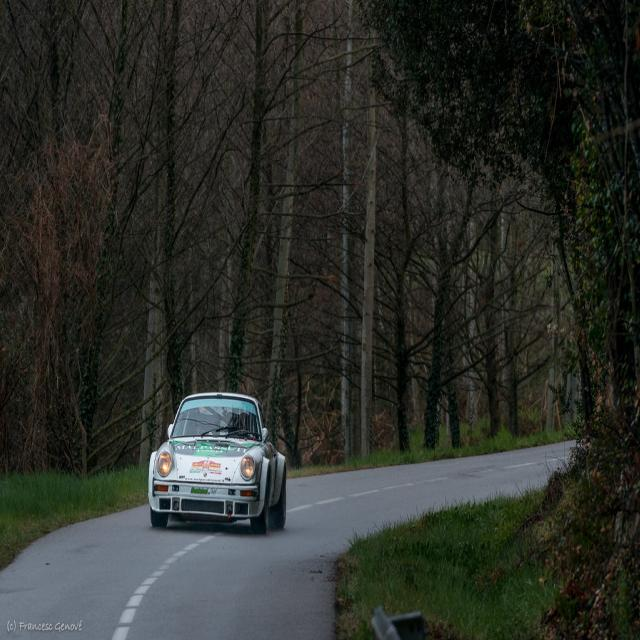other: (148, 391, 288, 533)
